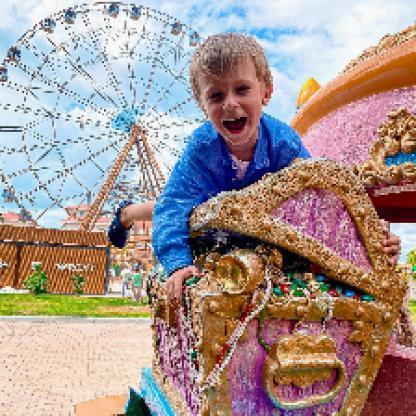child: (106, 31, 312, 310)
